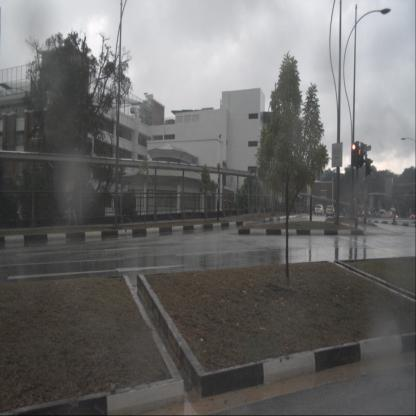human-pedestrian-adult: (66, 182, 78, 228), (390, 207, 397, 223)
vehicle-car: (326, 204, 336, 218), (314, 204, 325, 216), (379, 209, 387, 219), (385, 210, 393, 219), (372, 210, 380, 218), (358, 208, 364, 218), (365, 211, 372, 218)
